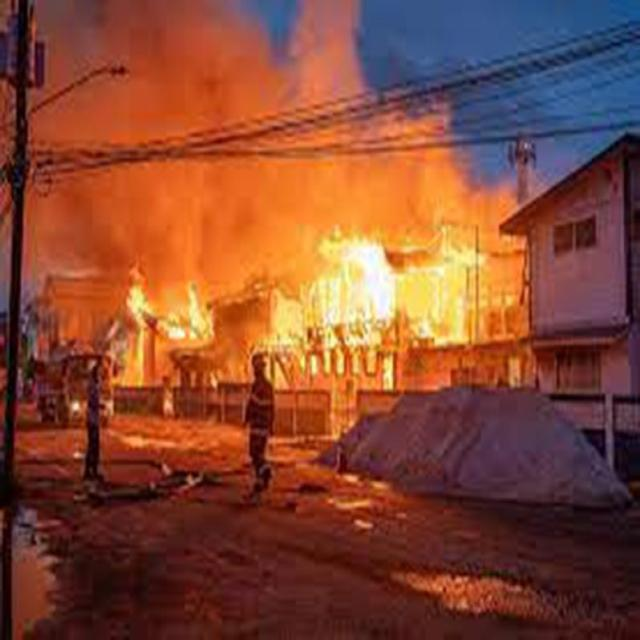Fire: (61, 29, 502, 269), (256, 224, 511, 334), (120, 282, 212, 354)
